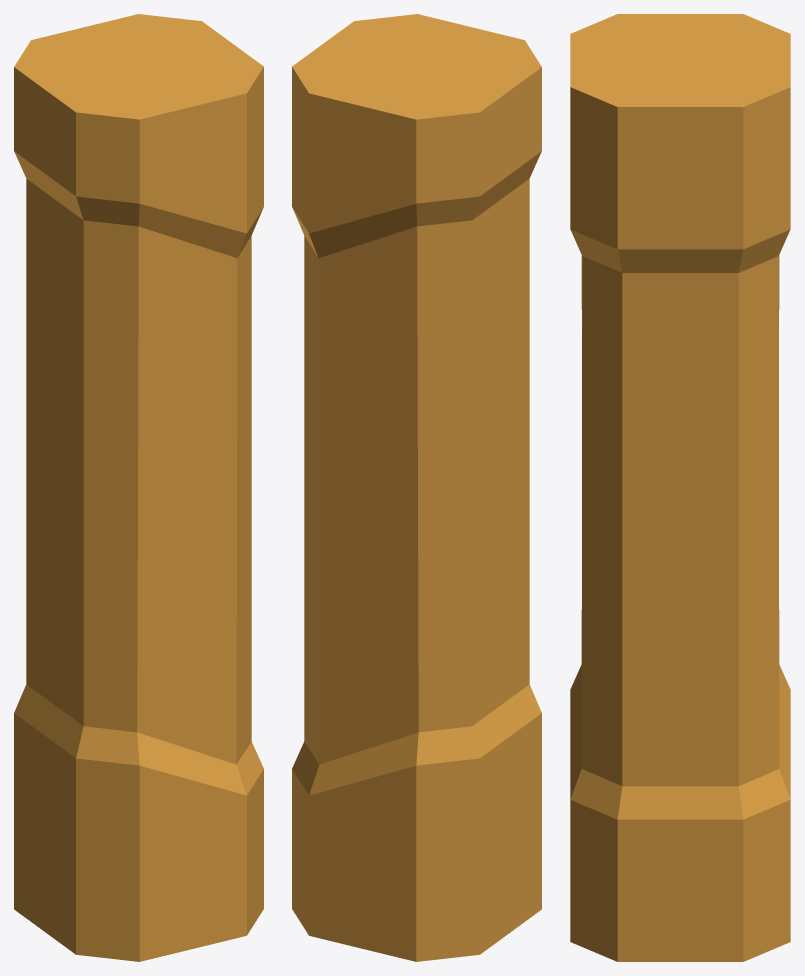
Rendered from scifi-scifi-pillar-light.glb.
3 renders of one model, left to right at view 1: azimuth 30°, elevation 25°; view 2: azimuth 150°, elevation 25°; view 3: azimuth 270°, elevation 25°, orthographic.
Visible parts, largest first — view 1: scifi-pillar-light; view 2: scifi-pillar-light; view 3: scifi-pillar-light.
Boxes of the visible parts, left/top/right/bottom form: scifi-pillar-light: left=14, top=14, right=263, bottom=961; scifi-pillar-light: left=292, top=14, right=541, bottom=961; scifi-pillar-light: left=570, top=14, right=790, bottom=961.
Size of the model in its own units: 0.7003 by 3 by 0.7003.
